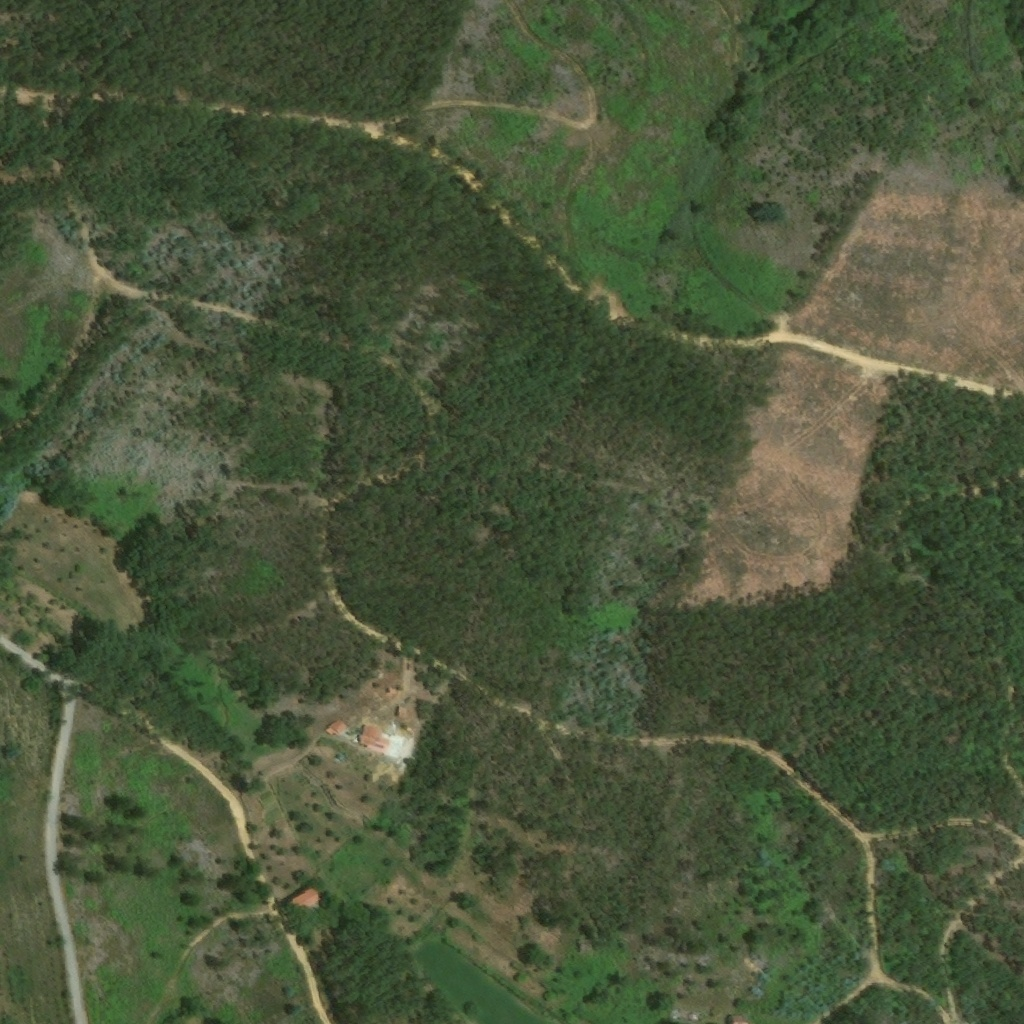0 no-damage: (357, 724, 391, 755), (286, 887, 320, 914), (325, 720, 347, 737), (397, 702, 407, 719), (729, 1016, 750, 1023)
